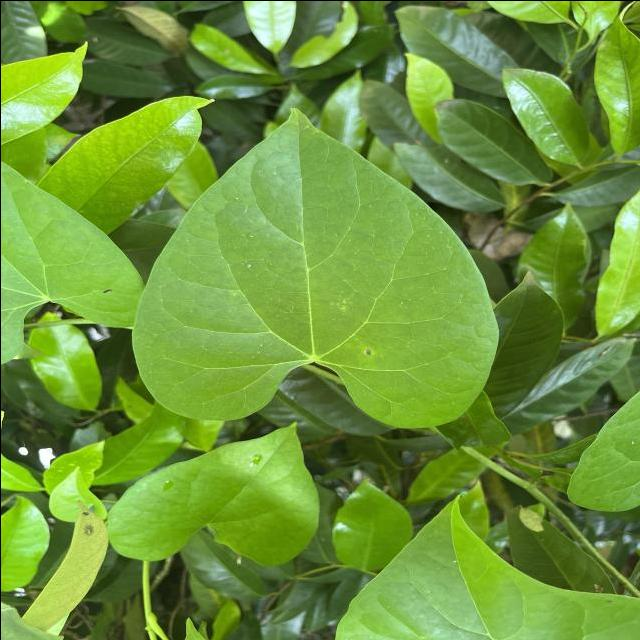Tinospora cordifolia: (127, 103, 503, 433)
